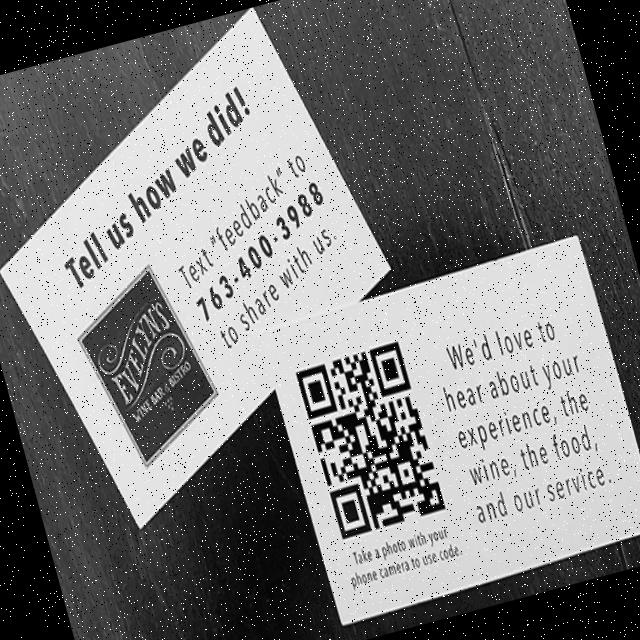QR-codes: (293, 340, 445, 540)
